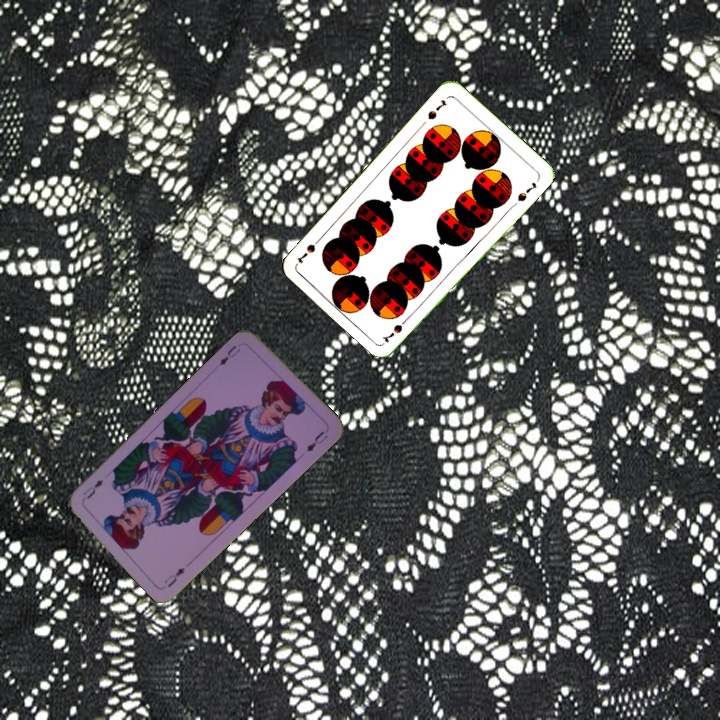EU: (215, 341, 243, 368), (160, 563, 188, 590)
S7: (380, 312, 413, 346), (424, 95, 449, 122)
